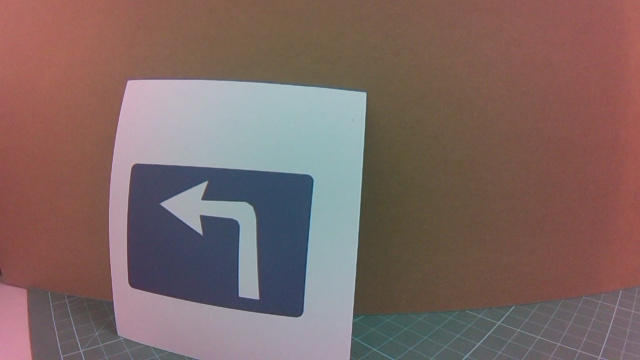left: (126, 152, 318, 323)
